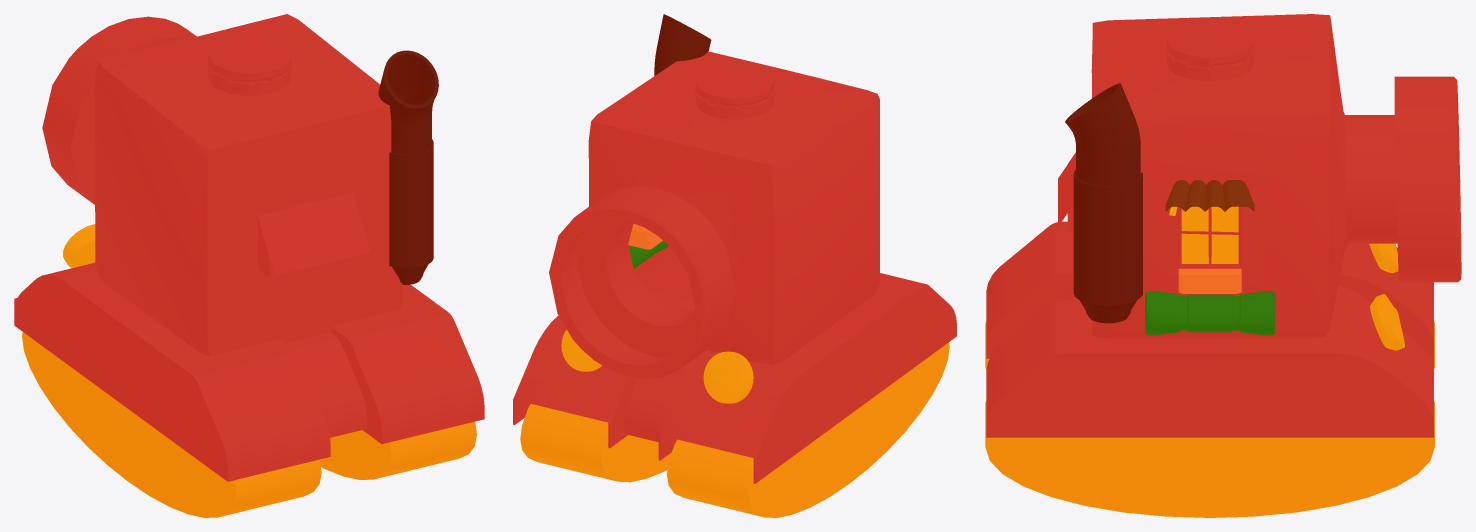
The model's file is tank.glb.
The picture shows the model from 3 angles, left to right: view 1: azimuth 30°, elevation 25°; view 2: azimuth 150°, elevation 25°; view 3: azimuth 270°, elevation 25°; orthographic projection. The views are drawn at different scales.
Parts seen in each view (by area): view 1: coque_tank, Charnier_roue, roue, pot_d'échappement, petite_fenetre, phare; view 2: coque_tank, Charnier_roue, roue, phare, pot_d'échappement, bas_fenetre; view 3: coque_tank, Charnier_roue, roue, pot_d'échappement, sac_de_couchage, par_soleil, phare, bas_fenetre.
Part boxes in pixels (left/top/right/bottom): coque_tank: left=42, top=14, right=402, bottom=355; Charnier_roue: left=14, top=262, right=484, bottom=481; roue: left=22, top=332, right=476, bottom=517; pot_d'échappement: left=378, top=50, right=438, bottom=284; petite_fenetre: left=259, top=193, right=370, bottom=275; phare: left=63, top=224, right=95, bottom=268; coque_tank: left=549, top=51, right=879, bottom=378; Charnier_roue: left=513, top=255, right=956, bottom=483; roue: left=520, top=342, right=949, bottom=517; phare: left=561, top=329, right=753, bottom=403; pot_d'échappement: left=654, top=14, right=711, bottom=75; bas_fenetre: left=628, top=223, right=662, bottom=249; coque_tank: left=1067, top=14, right=1461, bottom=338; Charnier_roue: left=986, top=221, right=1433, bottom=437; roue: left=985, top=321, right=1434, bottom=517; pot_d'échappement: left=1065, top=83, right=1142, bottom=323; sac_de_couchage: left=1145, top=291, right=1275, bottom=335; par_soleil: left=1165, top=180, right=1254, bottom=211; phare: left=1369, top=243, right=1404, bottom=350; bas_fenetre: left=1178, top=268, right=1241, bottom=293.
Size of what is drawn, in the model's own units: 1.02 by 1.51 by 1.53.
